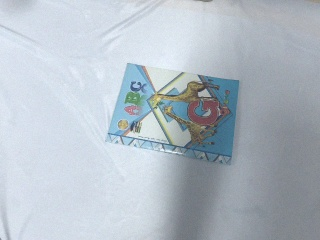book: (101, 61, 246, 170)
